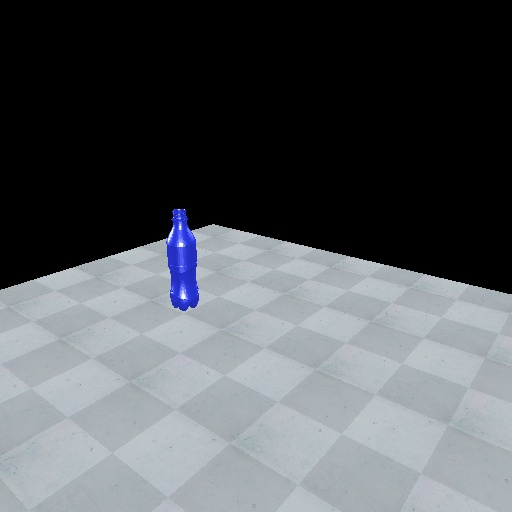bottle: (163, 206, 202, 313)
